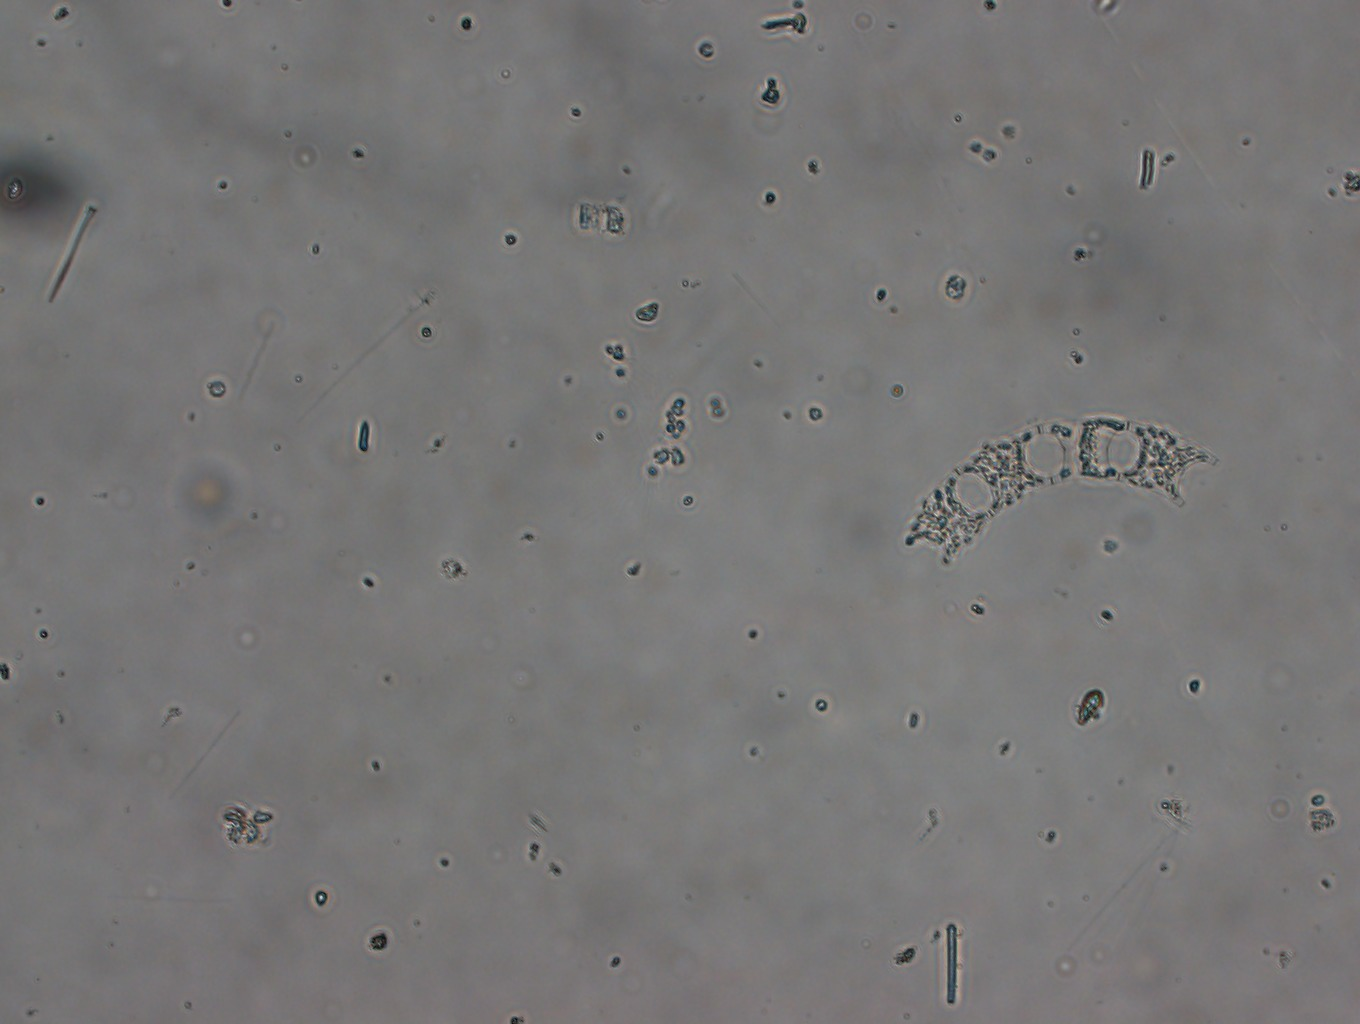eucampia: (903, 413, 1220, 570)
